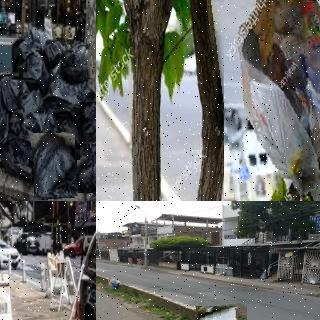Garbage: (217, 0, 320, 201), (32, 132, 77, 199), (57, 40, 91, 87), (77, 99, 96, 163), (195, 304, 247, 320), (75, 157, 96, 195), (107, 278, 123, 292)
